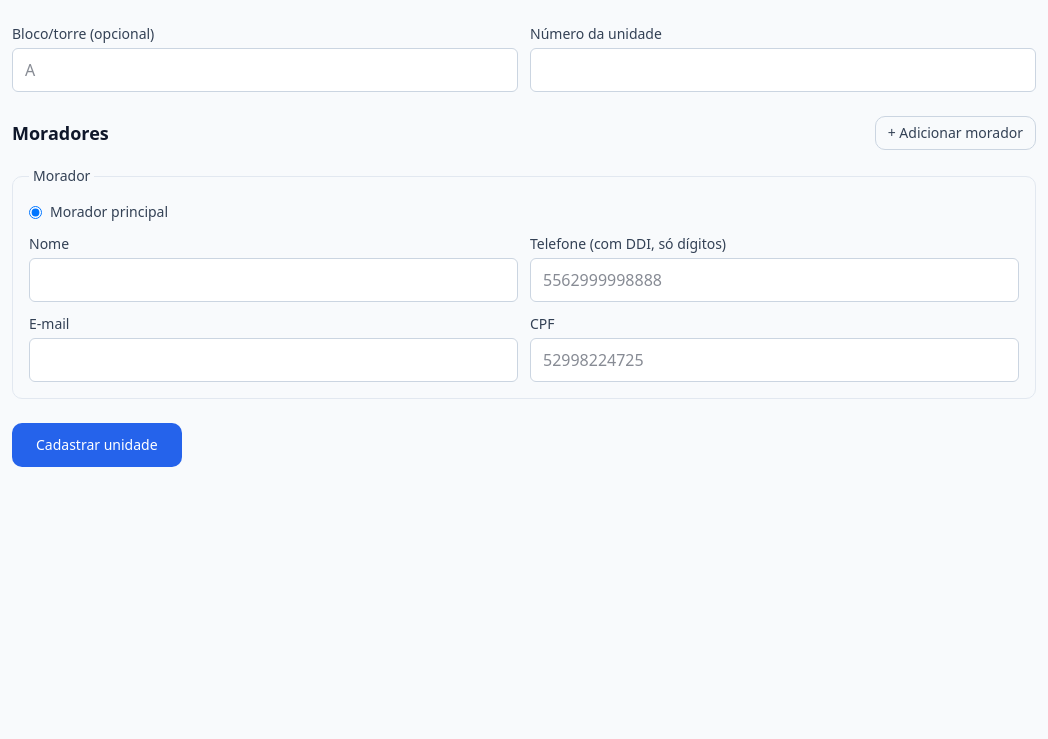
Test: UnitForm › adiciona e remove morador adicional dinamicamente
The width and height of the screenshot is (1048, 739).
Expected: the text "Morador adicional 1" is not shown
Click the button "+ Adicionar morador": (955, 133) [875,116,1036,150]
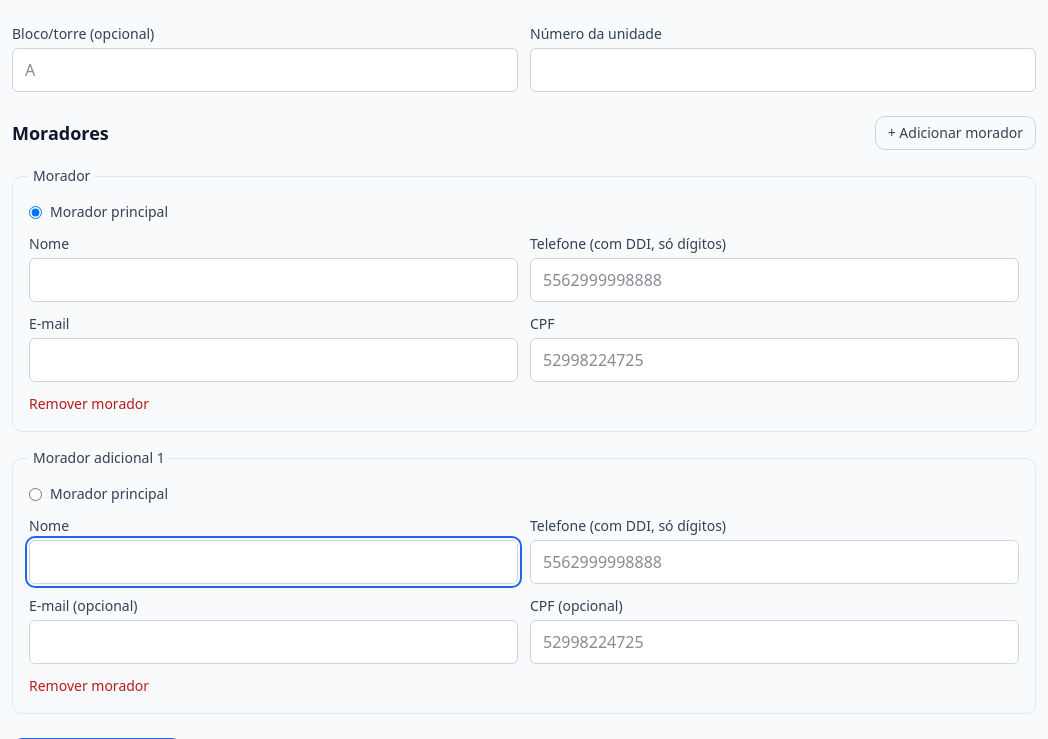
Expected: the text "Morador adicional 1" is shown, [29,448,169,468]
Click the button "Remover morador" below "Morador adicional 1": (89, 686) [29,676,149,696]
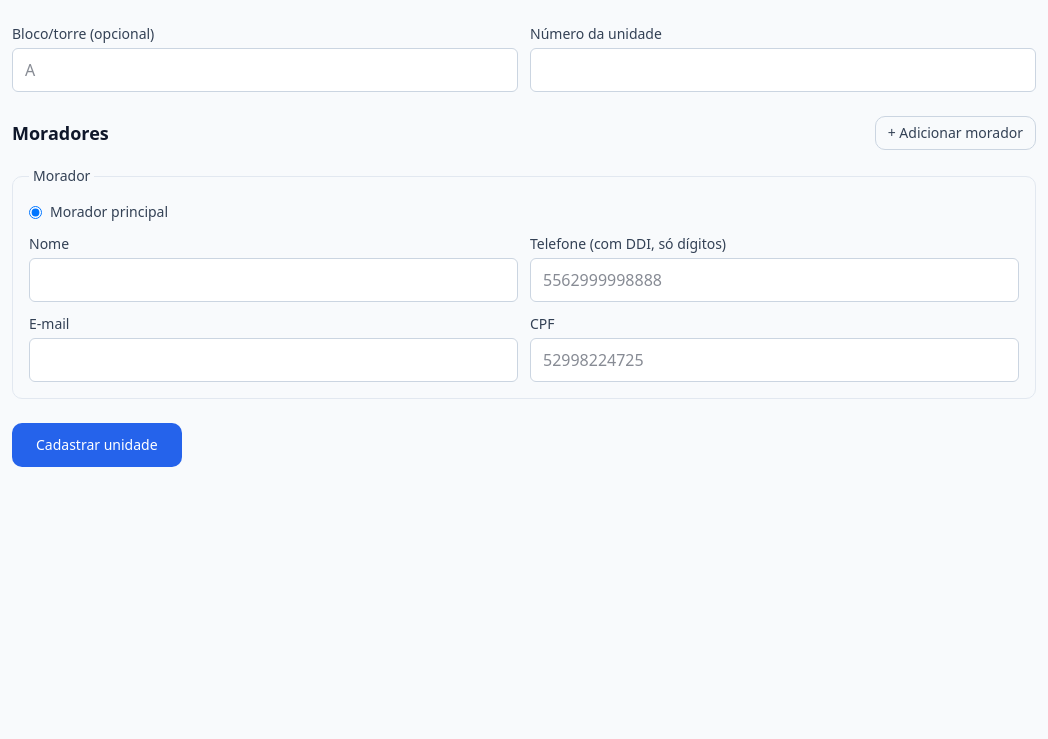
Expected: the text "Morador adicional 1" is gone
